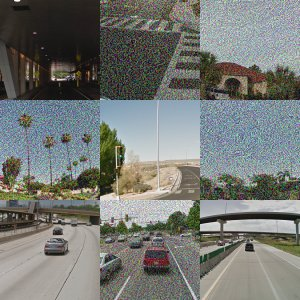公車: (99, 211, 172, 300), (2, 234, 94, 298), (1, 25, 70, 83)
